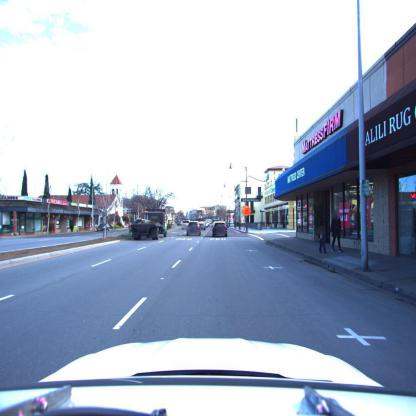car: (187, 221, 202, 236), (212, 222, 227, 237)
person: (314, 204, 327, 253), (330, 207, 342, 252)
sign: (240, 204, 252, 218)
truck: (130, 210, 167, 241)
